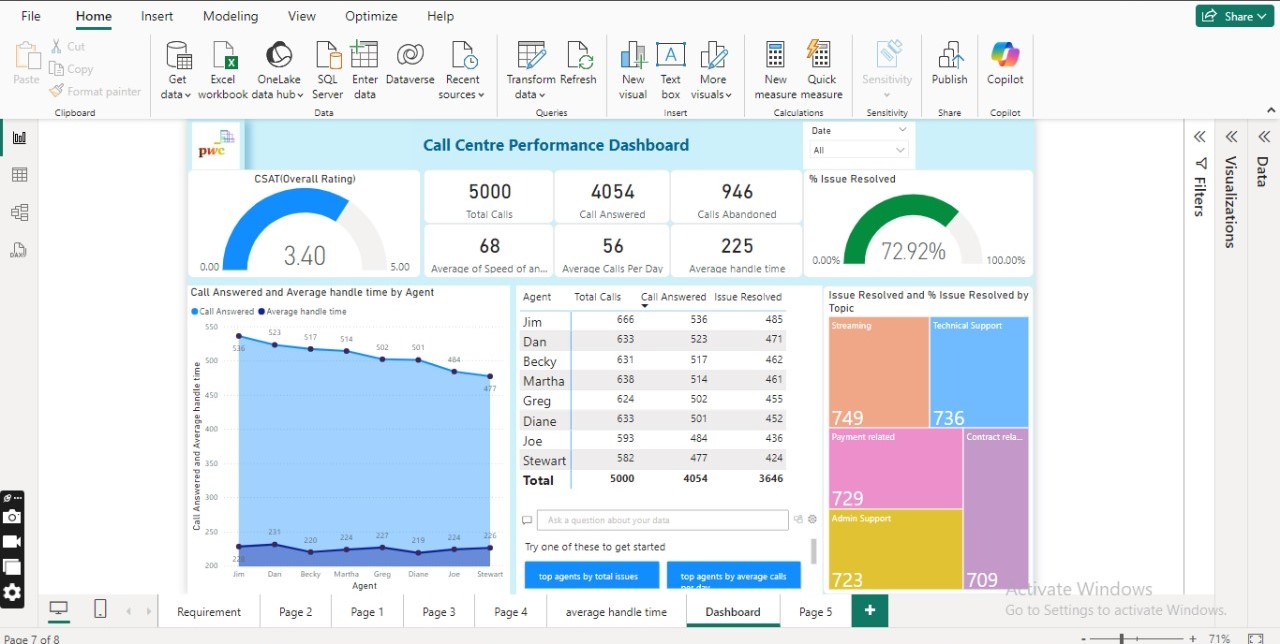

Layout of this report page (visuals, bound fields, positions):
{"tool":"powerbi","page":{"name":"Dashboard","canvas":[1280,720],"ordinal":0},"visuals":[{"type":"shape","box":[340,0,435.1,76.5],"z":0},{"type":"image","box":[0,0,86.5,82.2],"z":1000},{"type":"slicer","fields":{"Values":["Sheet1.Date"]},"box":[1105.5,4.3,170.1,72.3],"z":2000},{"type":"gauge","fields":{"Y":["Sheet1.Overall rating"]},"box":[0,76.5,352.9,164.4],"z":3000},{"type":"gauge","fields":{"Y":["Sheet1.% Issue Resolved"]},"box":[931.2,76.5,348.7,164.4],"z":4000},{"type":"card","fields":{"Values":["Sheet1.Calls Answered"]},"box":[554.2,76.5,175.7,82.2],"z":5000},{"type":"card","fields":{"Values":["Sheet1.Calls Abandoned"]},"box":[729.9,76.5,201.3,82.2],"z":6000},{"type":"card","fields":{"Values":["Avg(Sheet1.Speed of answer in seconds)"]},"box":[357.2,158.7,197,82.2],"z":7000},{"type":"pivotTable","fields":{"Rows":["Sheet1.Agent"],"Values":["Sheet1.Total Calls","Sheet1.Call Answered","Sheet1.Issue_Resolved"]},"box":[497.5,252.3,463.5,314.6],"z":8000},{"type":"card","fields":{"Values":["Sheet1.Average Calls Per Day"]},"box":[554.2,158.7,175.7,82.2],"z":9000},{"type":"card","fields":{"Values":["Sheet1.Total Calls"]},"box":[357.2,76.5,197,82.2],"z":10000},{"type":"card","fields":{"Values":["Sheet1.Average handle time"]},"box":[729.9,158.7,201.3,82.2],"z":11000},{"type":"areaChart","fields":{"Y":["Sheet1.Call Answered","Sheet1.Average handle time"],"Category":["Sheet1.Agent"]},"box":[0,252.3,487.6,467.7],"z":12000},{"type":"treemap","fields":{"Group":["Sheet1.Topic"],"Values":["Sheet1.Issue_Resolved"]},"box":[960.9,252.3,318.9,467.7],"z":13000},{"type":"qnaVisual","box":[497.5,566.9,463.5,153.1],"z":14000}]}

Visuals, with their boxes on the page's 1280x720 design canvas (x1, y1, x2, y2). These are canvas units, not pixel positions in the 1280x644 screenshot, which may show the page scaled, cropped or inside an application window:
shape: 340:0:775:76
image: 0:0:86:82
slicer - Sheet1.Date: 1106:4:1276:77
gauge - Sheet1.Overall rating: 0:76:353:241
gauge - Sheet1.% Issue Resolved: 931:76:1280:241
card - Sheet1.Calls Answered: 554:76:730:159
card - Sheet1.Calls Abandoned: 730:76:931:159
card - Avg(Sheet1.Speed of answer in seconds): 357:159:554:241
pivotTable - Sheet1.Agent x Sheet1.Total Calls: 498:252:961:567
card - Sheet1.Average Calls Per Day: 554:159:730:241
card - Sheet1.Total Calls: 357:76:554:159
card - Sheet1.Average handle time: 730:159:931:241
areaChart - Sheet1.Call Answered x Sheet1.Average handle time: 0:252:488:720
treemap - Sheet1.Topic x Sheet1.Issue_Resolved: 961:252:1280:720
qnaVisual: 498:567:961:720
